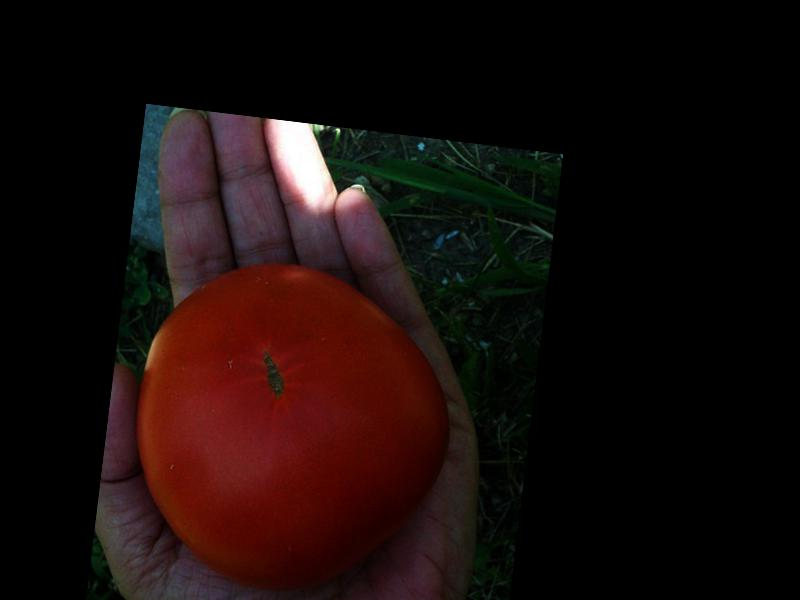Tomato: (118, 249, 467, 600)
